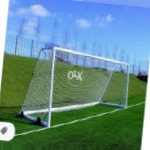goals: (16, 44, 132, 129)
